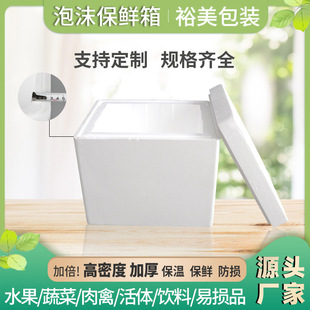Boxes: (74, 85, 287, 226)
